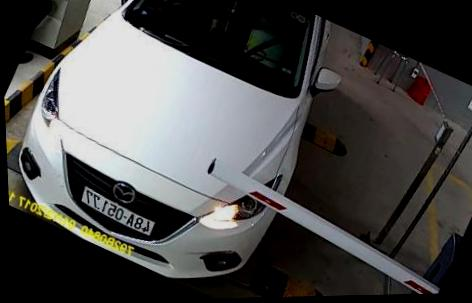License_Plate: (75, 187, 166, 243)
